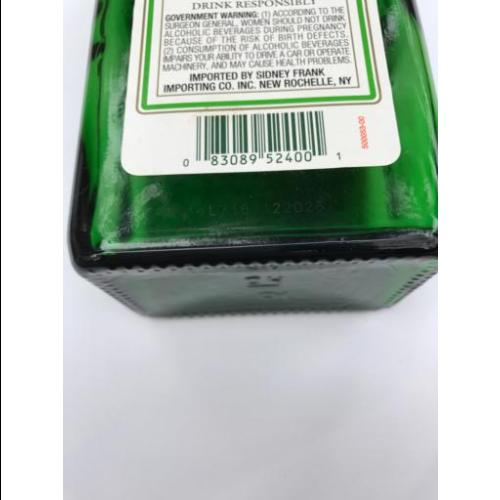glass: (74, 0, 438, 313)
